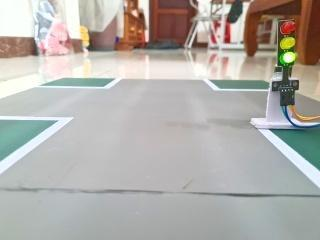green: (271, 14, 302, 87)
